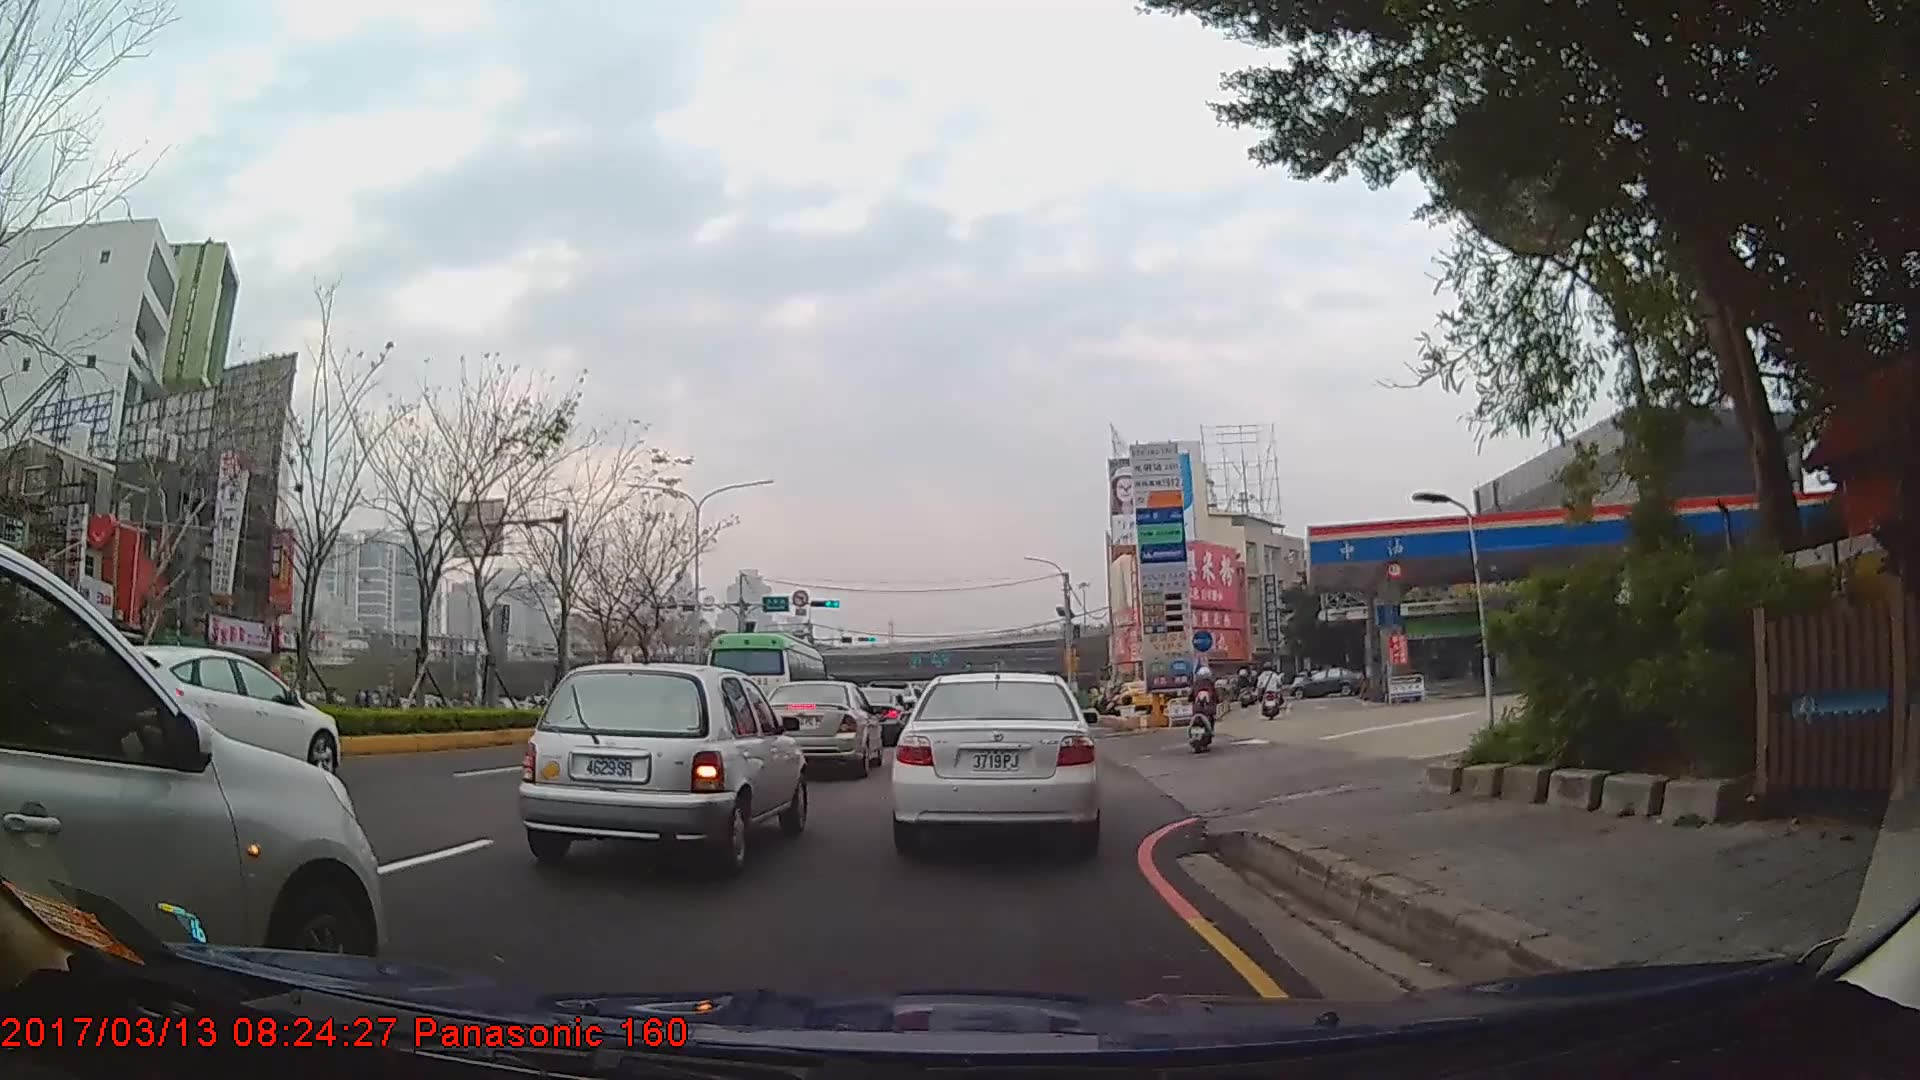rider: (1187, 664, 1221, 753), (1256, 661, 1284, 720)
vehicle: (0, 544, 388, 999), (513, 657, 810, 873), (889, 668, 1099, 853), (98, 641, 338, 774), (754, 679, 882, 776), (705, 630, 827, 731), (1290, 667, 1363, 698), (1116, 679, 1159, 710)
